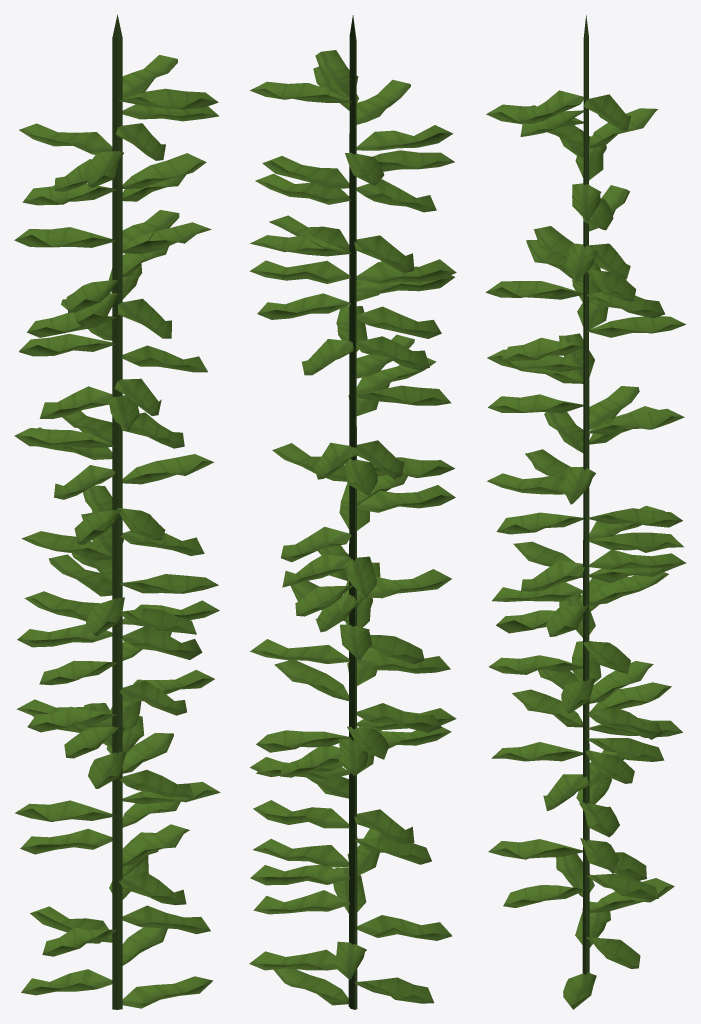
File: Kelp2.fbx
3 views of the same model, side by side, from view 1: azimuth 30°, elevation 25°; view 2: azimuth 150°, elevation 25°; view 3: azimuth 270°, elevation 25° (orthographic). The views are drawn at different scales.
Parts seen in each view (by area): view 1: Circle.177; view 2: Circle.177; view 3: Circle.177.
Part boxes in pixels (x1=…): Circle.177: x1=14, y1=14, x2=220, y2=1009; Circle.177: x1=249, y1=15, x2=456, y2=1009; Circle.177: x1=485, y1=15, x2=686, y2=1009.
Size of the model in its own units: 1174 by 6221 by 1175.
